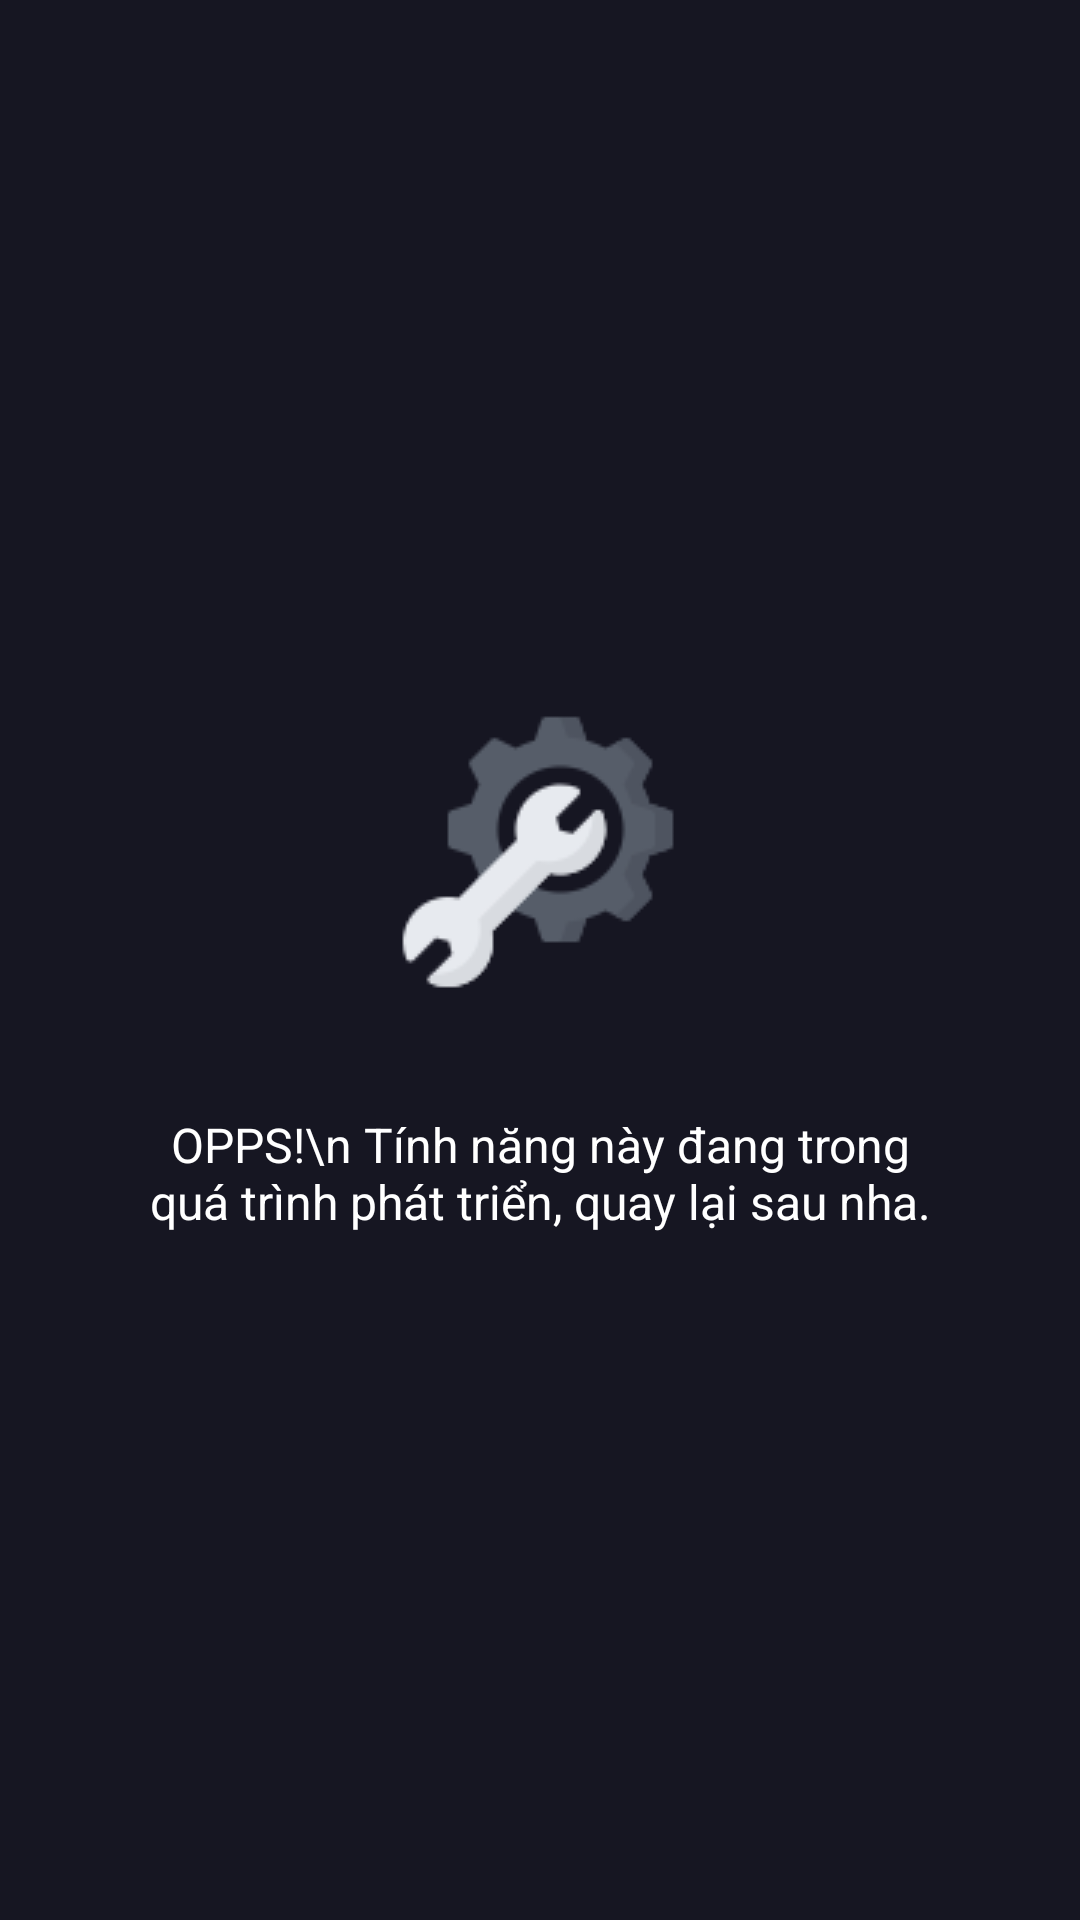

Locate icon controls on the screen. Image size 1080x1920, boxes as (x1, y1, x2, y2).
gear: (402, 717, 673, 988)
